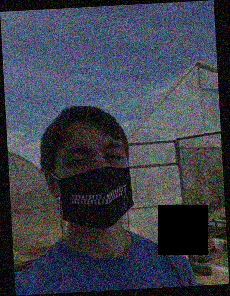with_mask: (54, 136, 134, 230)
